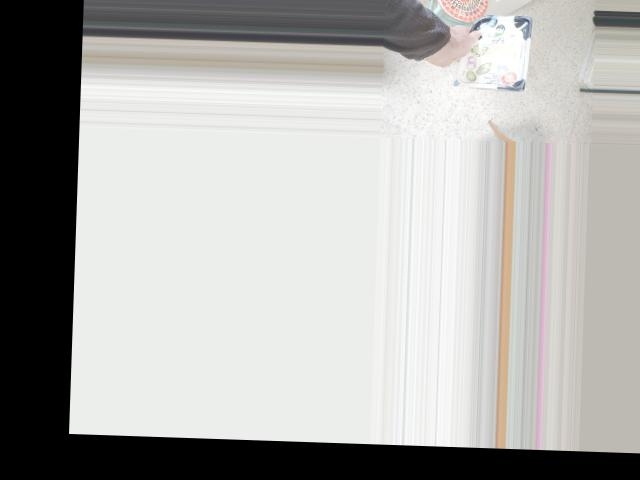cheese: (430, 3, 529, 101)
